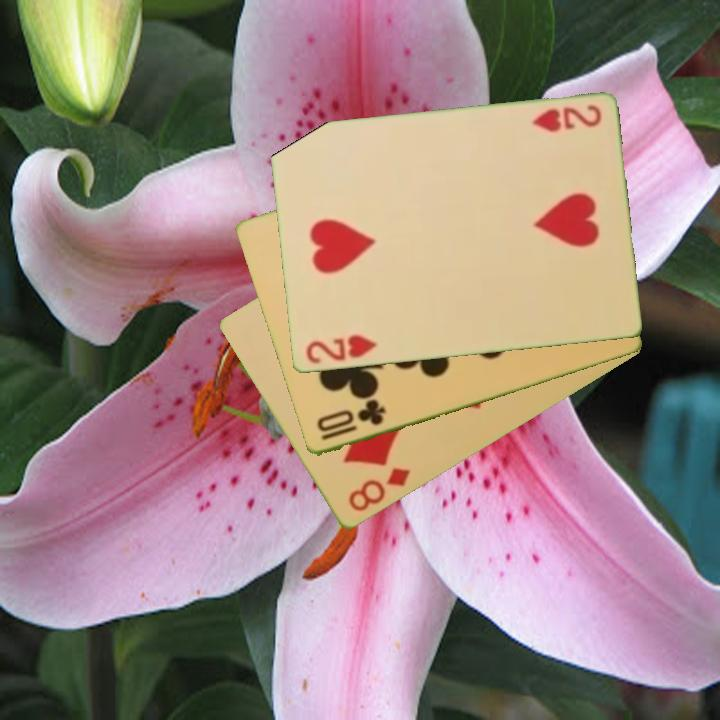10c: (313, 397, 389, 444)
2h: (302, 331, 380, 367), (528, 101, 604, 136)
8d: (344, 464, 413, 515)
